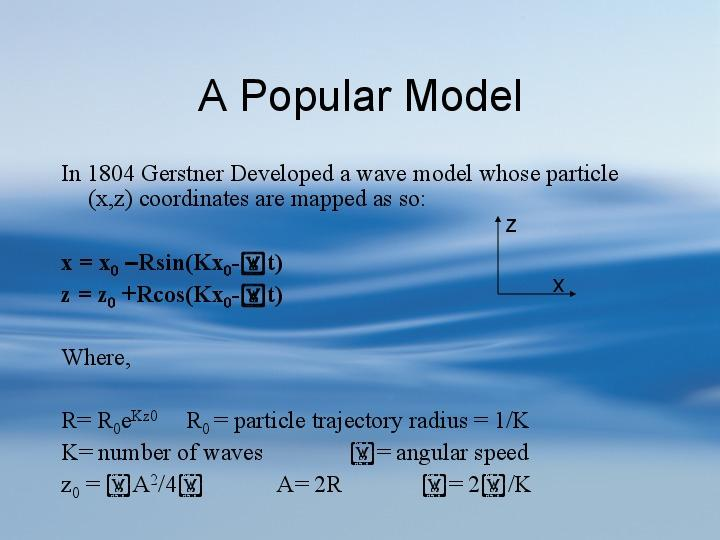paragraph: (36, 148, 678, 519)
title: (188, 64, 535, 130)
